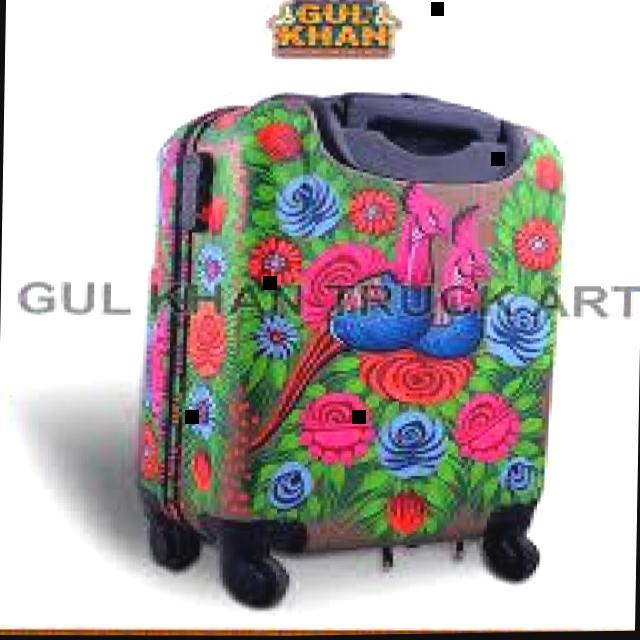luggage: (132, 81, 580, 591)
